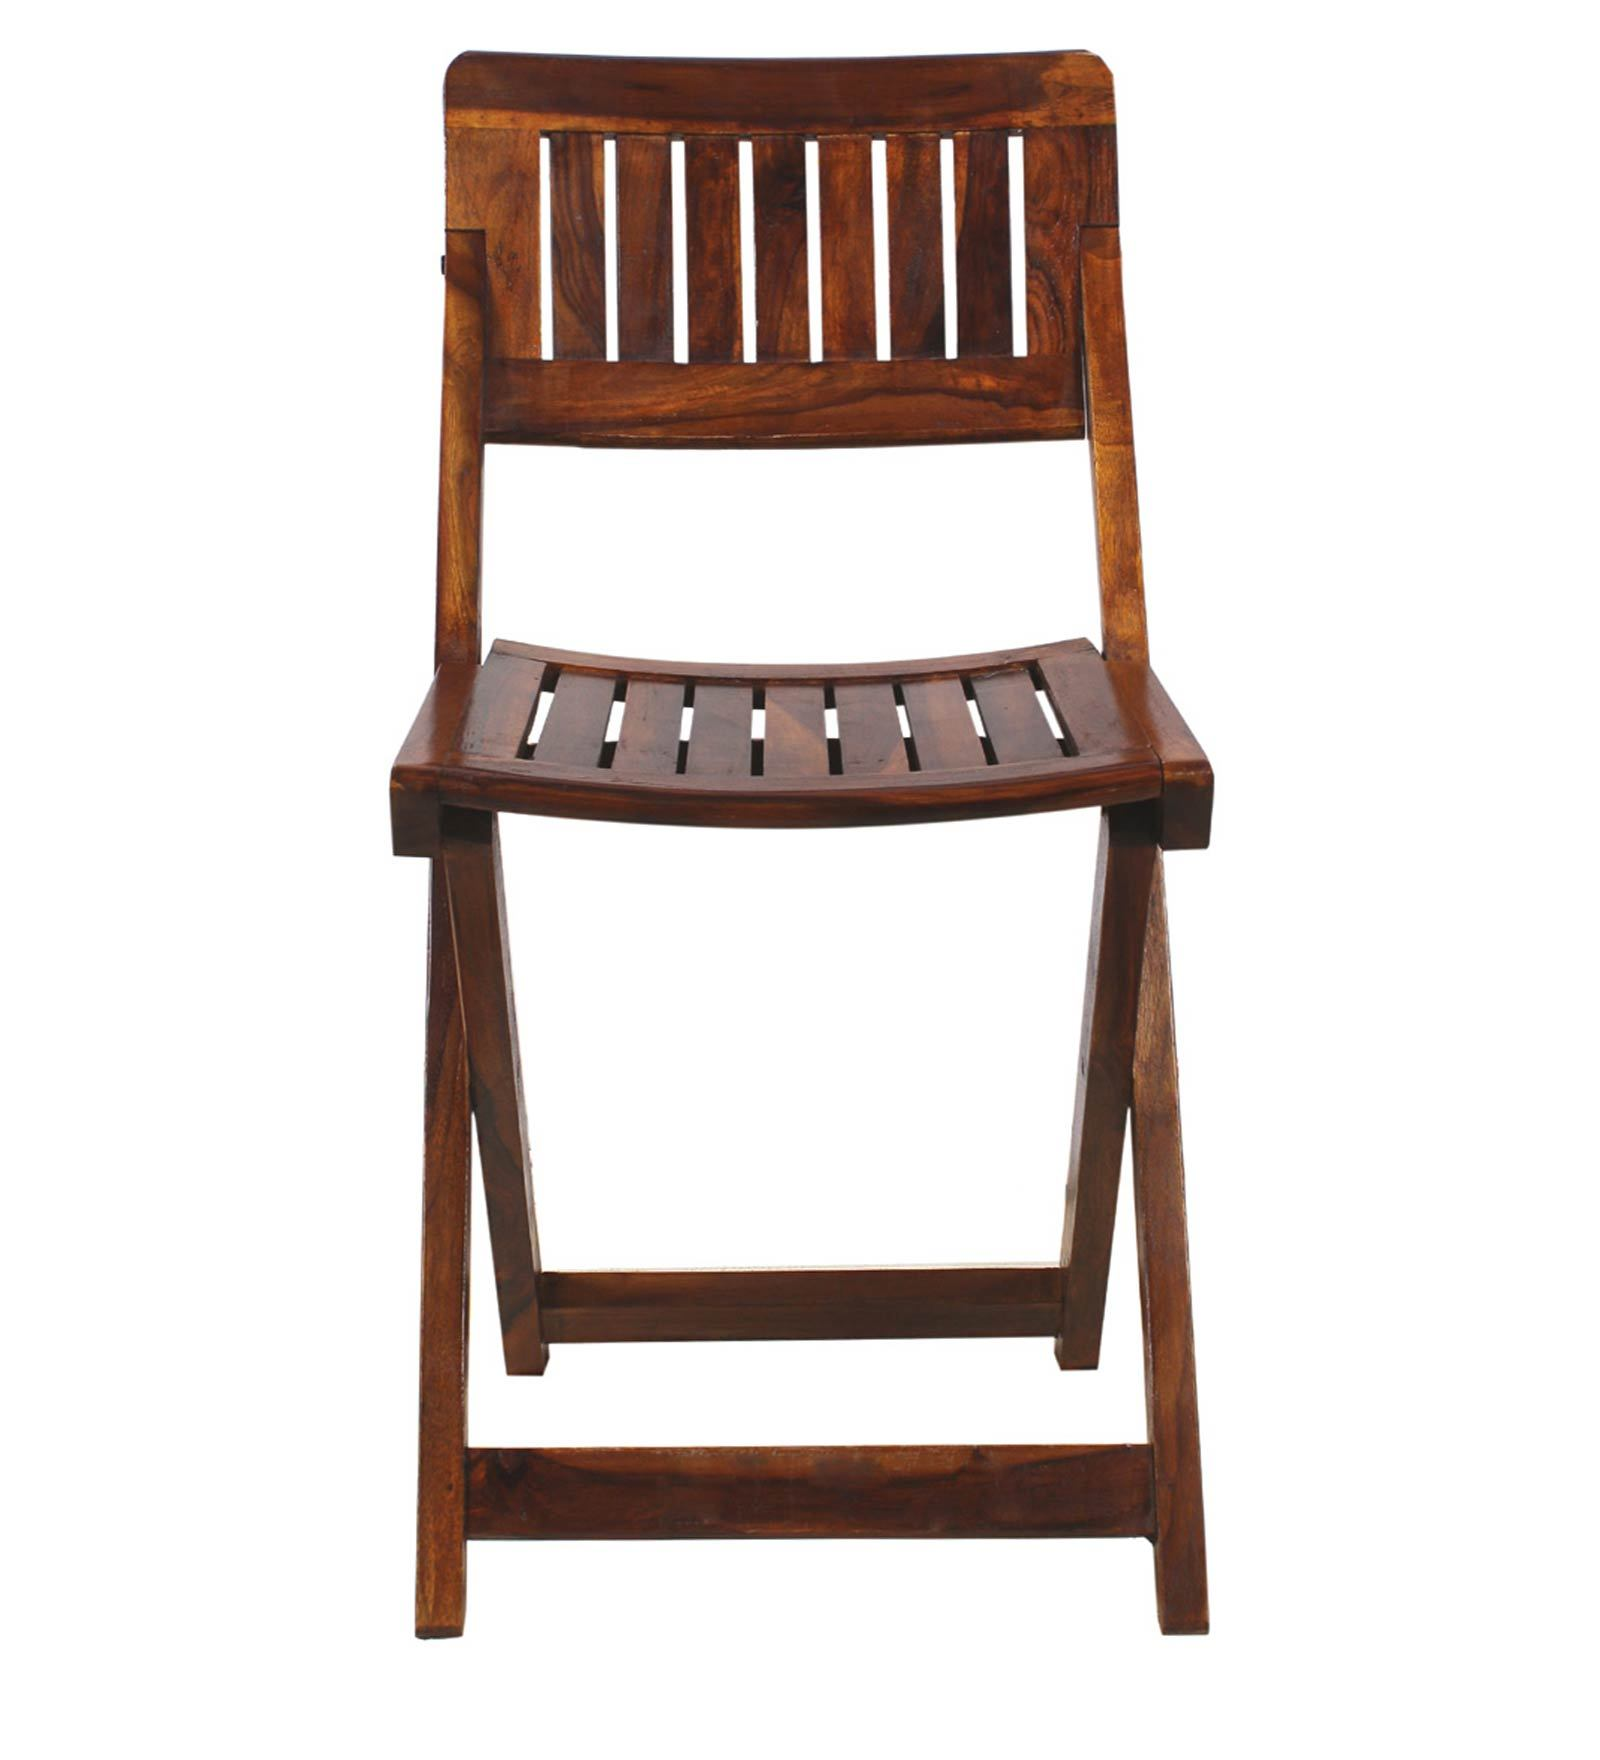Sheesham Wood Folding Chair in Walnut Finish by VarEesha: (357, 48, 1281, 1708)
